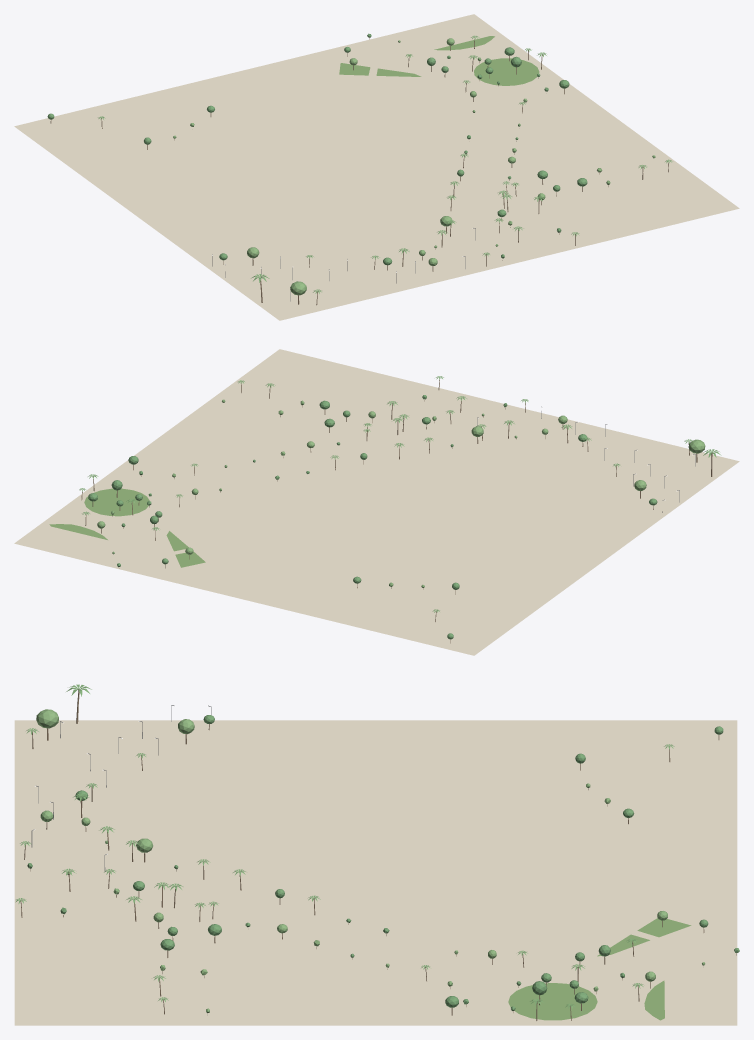
Rendered from nature_-1_5.glb.
3 renders of one model, top to bottom at view 1: azimuth 30°, elevation 25°; view 2: azimuth 150°, elevation 25°; view 3: azimuth 270°, elevation 25°, orthographic. The views are drawn at different scales.
Parts seen in each view (by area): view 1: ground, grass, foliage_a, foliage_b, palm_leaf, trunk; view 2: ground, grass, foliage_a, foliage_b, palm_leaf, trunk; view 3: ground, grass, foliage_a, foliage_b, palm_leaf, trunk.
Part boxes in pixels (x1,y1,x2,y2): ground: [14, 14, 739, 320]; grass: [339, 36, 539, 85]; foliage_a: [47, 33, 587, 265]; foliage_b: [173, 38, 655, 295]; palm_leaf: [98, 35, 672, 293]; trunk: [50, 38, 668, 305]; ground: [14, 349, 739, 655]; grass: [49, 488, 205, 567]; foliage_a: [88, 395, 657, 639]; foliage_b: [97, 399, 705, 587]; palm_leaf: [79, 376, 721, 612]; trunk: [81, 380, 712, 643]; ground: [14, 720, 737, 1025]; grass: [508, 918, 691, 1020]; foliage_a: [27, 715, 739, 1010]; foliage_b: [36, 709, 705, 1013]; palm_leaf: [15, 684, 674, 1008]; trunk: [20, 689, 736, 1020].
Bounding box in the file's own units: 252 × 13.56 × 251.
